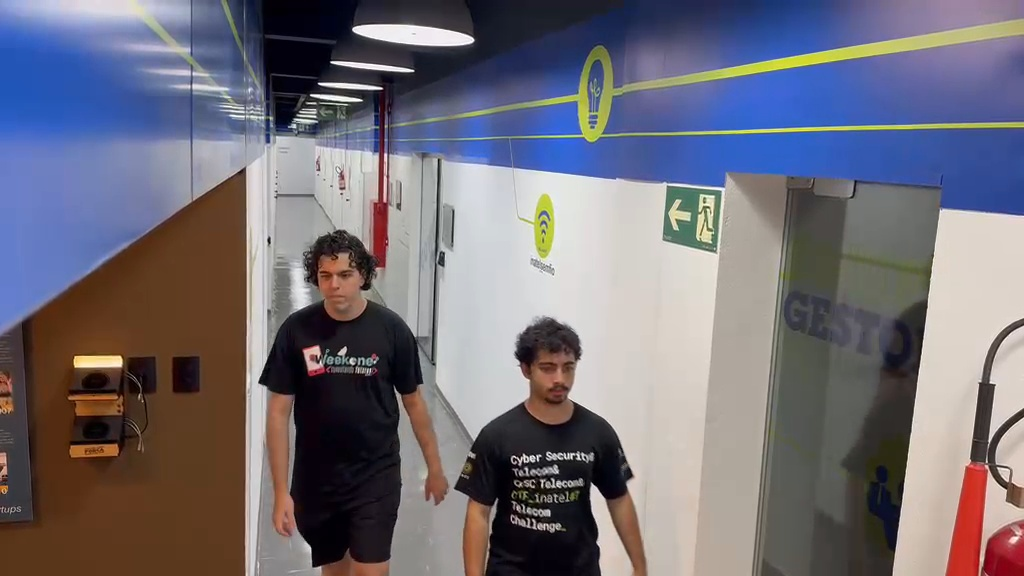person: (257, 231, 449, 572), (455, 315, 648, 574)
